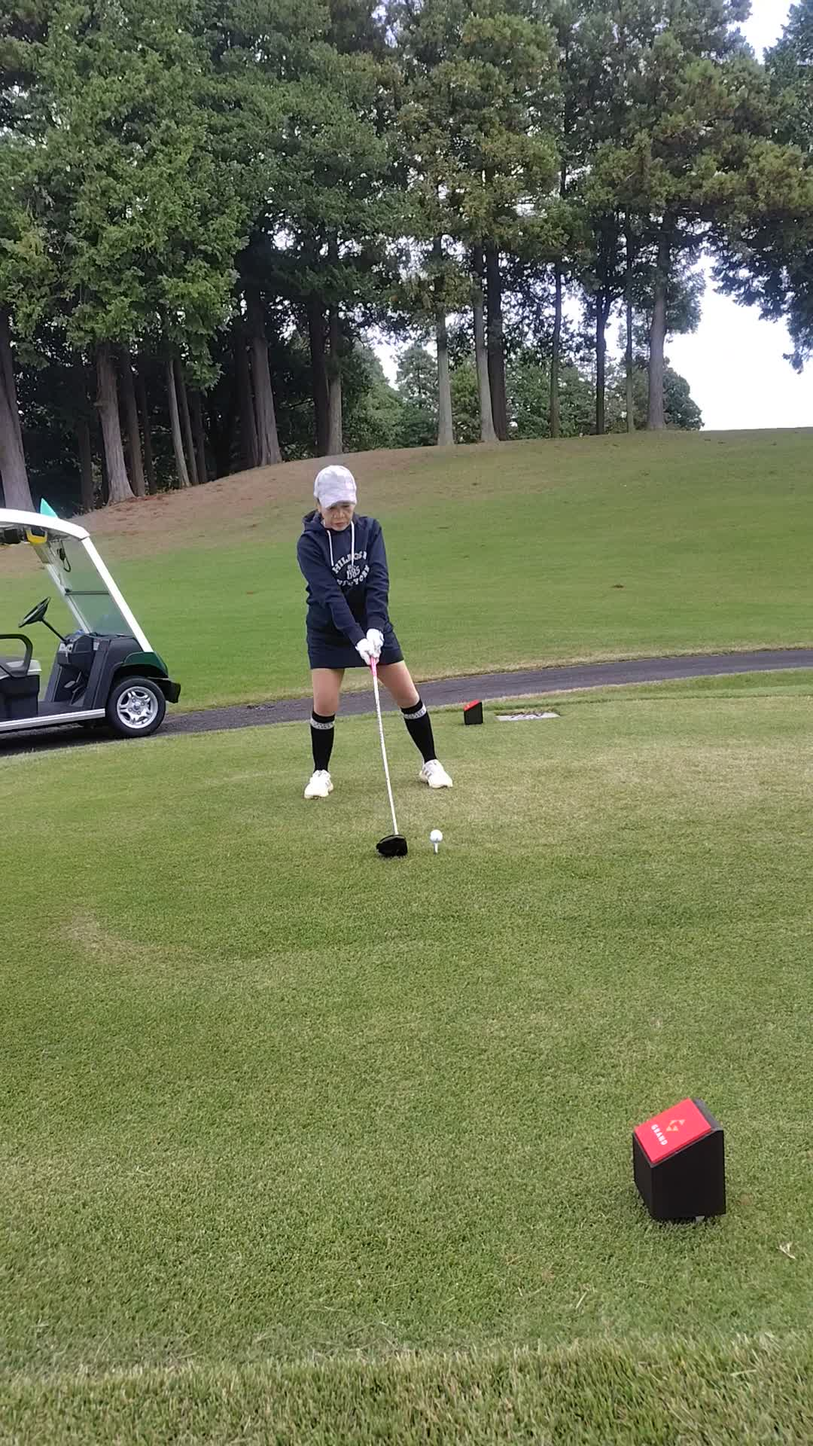clubhead: (272, 810, 495, 918)
